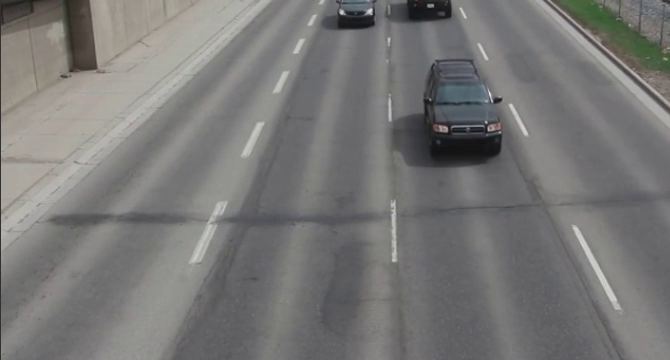car: (420, 55, 508, 165)
